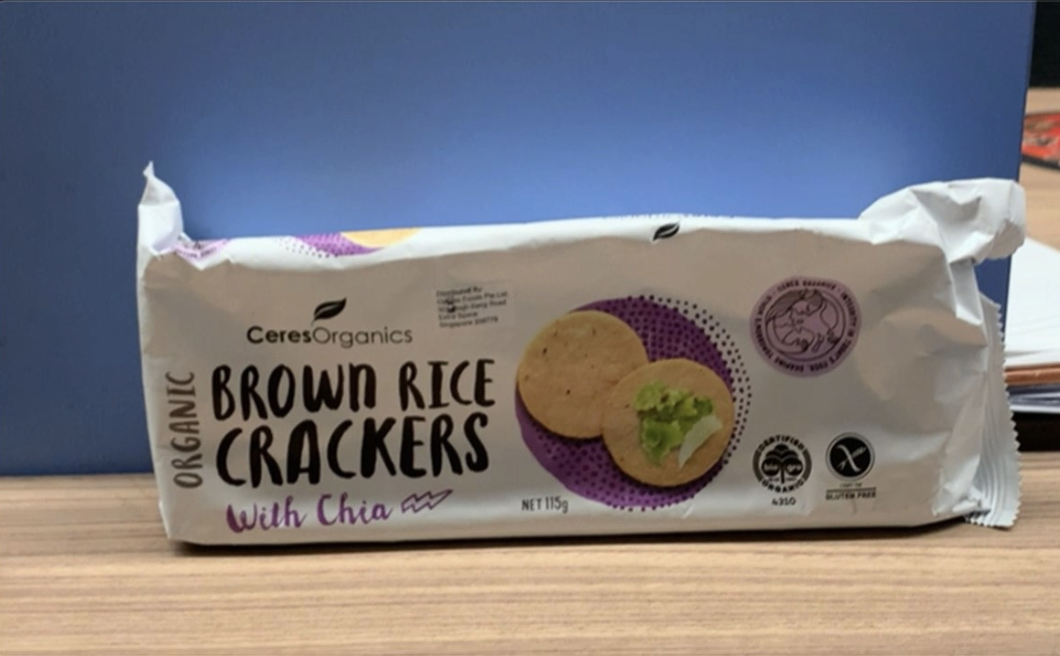crackers_100g-199g: (159, 261, 951, 523)
